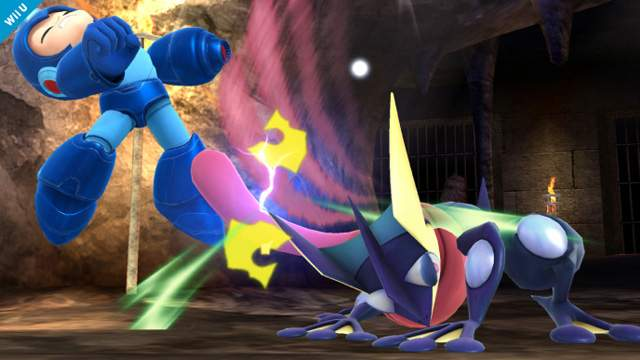greninja: (196, 79, 637, 357)
